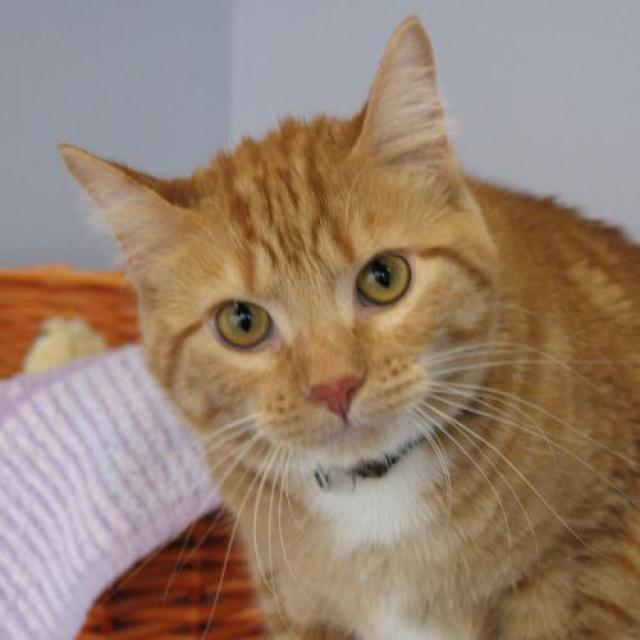Cats: (56, 13, 639, 639)
